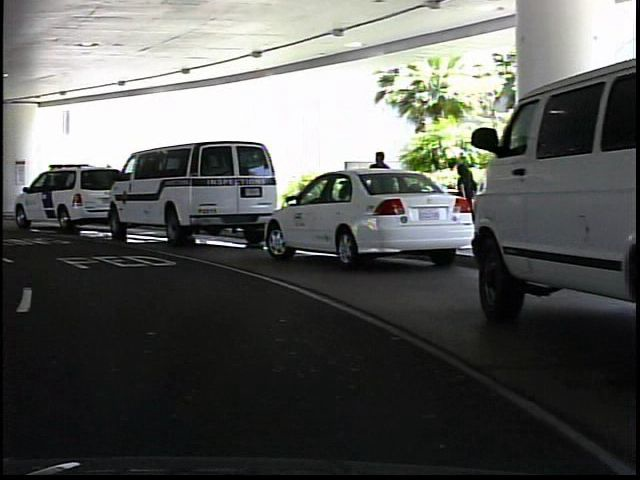person: (363, 146, 396, 236), (446, 155, 478, 246)
